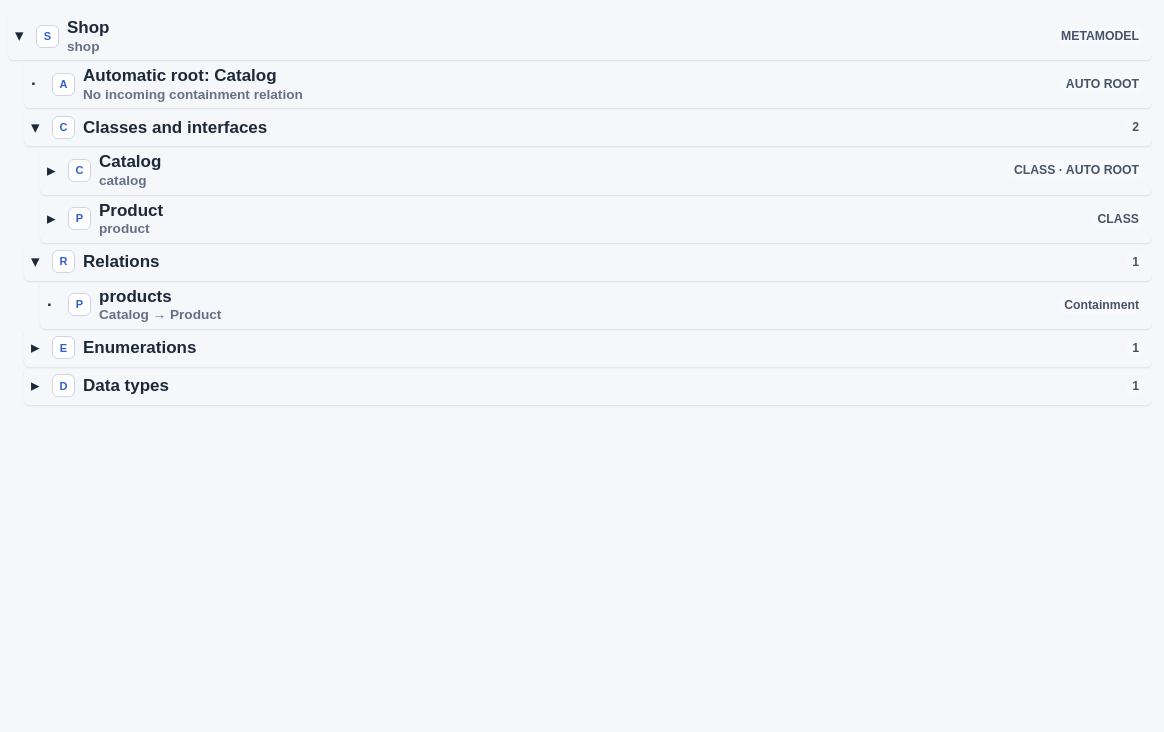
Test case: MetamodelStructureTree › shows classes, attributes, operations and relations
The width and height of the screenshot is (1164, 732).
Expected: the text "Catalog" is shown, [99, 152, 161, 171]
Step 1. Click the button "▸ C Catalog catalog CLASS · AUTO ROOT" → x=130, y=162, box [40, 146, 1152, 194]
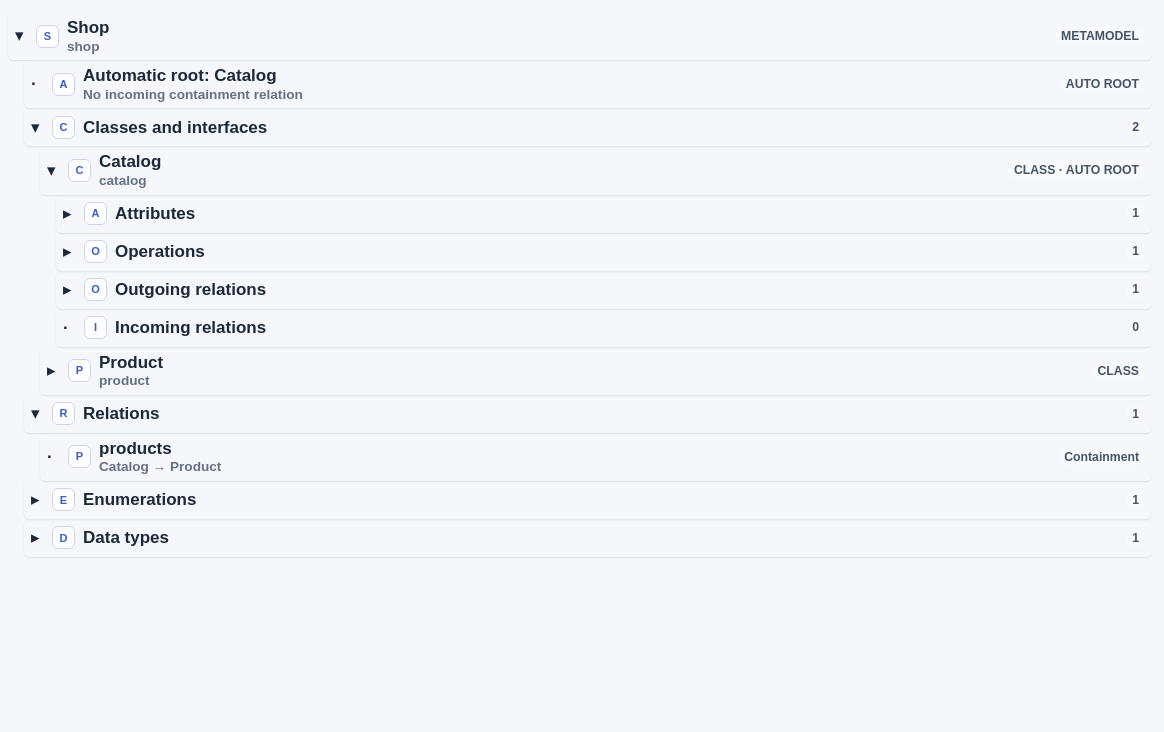
Expected: the text "products" is shown, [99, 439, 172, 458]
Now the text "Attributes" is shown, box [115, 204, 195, 223]
Now the text "Operations" is shown, box [115, 242, 205, 261]
